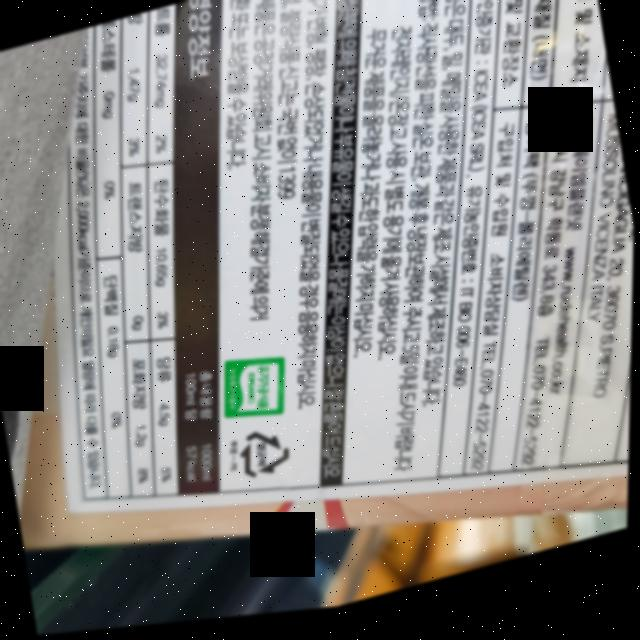SterilizedPack: (239, 426, 298, 489)
